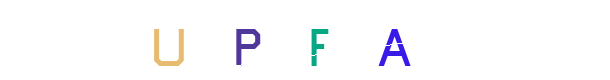A: (282, 0, 362, 80)
F: (276, 0, 356, 80)
P: (265, 0, 345, 80)
U: (128, 0, 208, 80)
